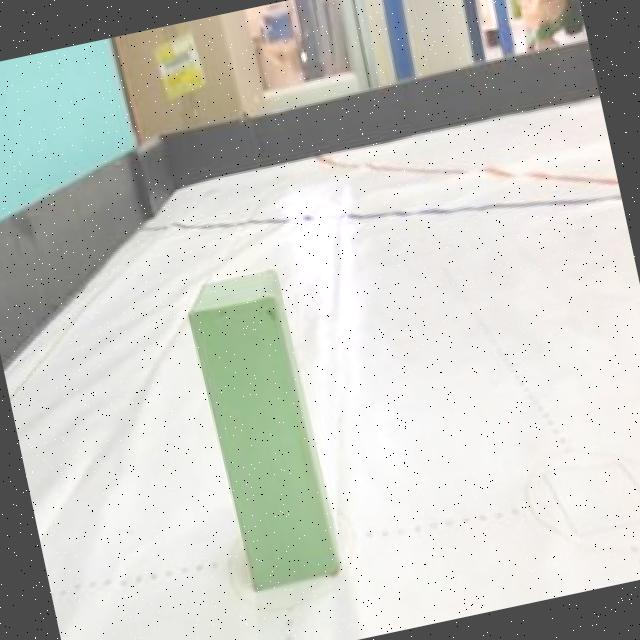greenbox: (180, 266, 344, 596)
